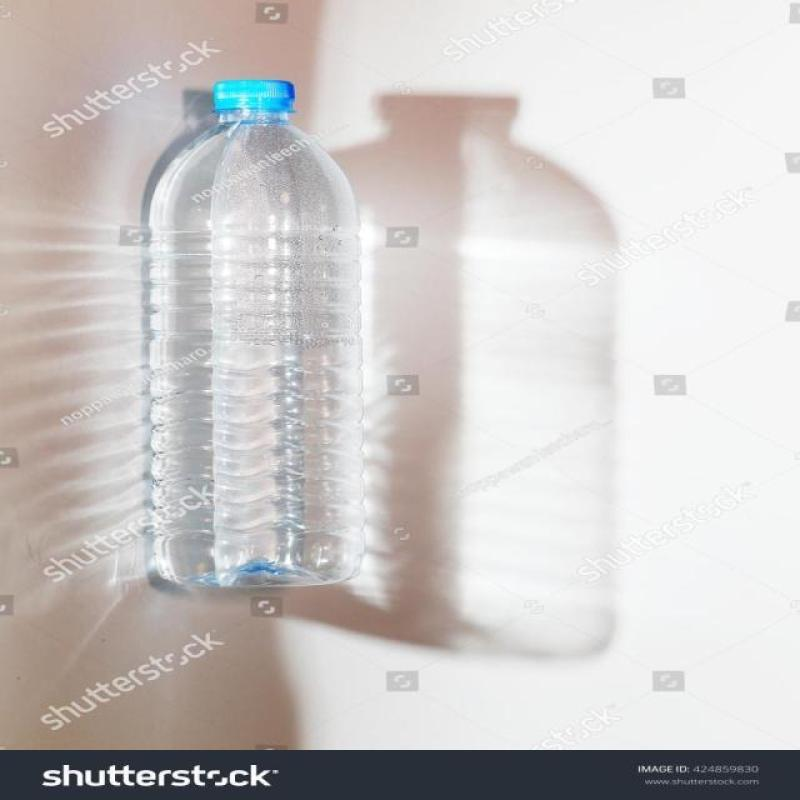botella: (142, 75, 366, 593)
